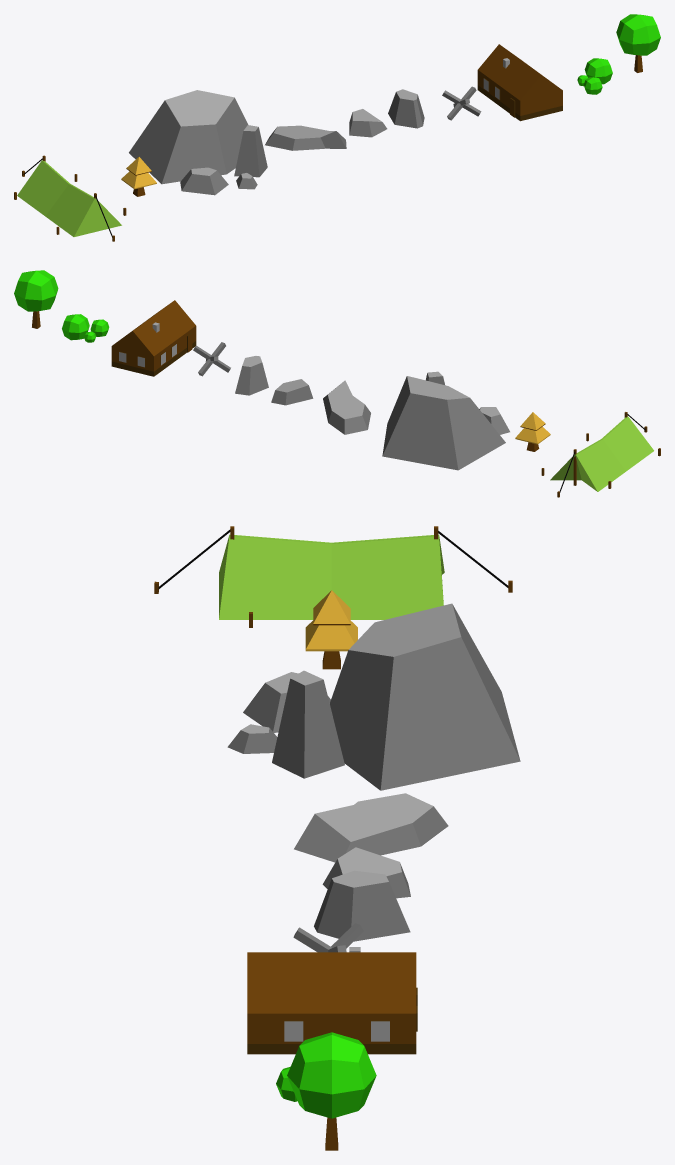
File: envirmoment.fbx
The picture shows the model from 3 angles, top to bottom: view 1: azimuth 30°, elevation 25°; view 2: azimuth 150°, elevation 25°; view 3: azimuth 270°, elevation 25°; orthographic projection. The views are drawn at different scales.
Visible parts, largest first — view 1: rock-4, tent, house, tree, rock-3, rock-1, bush, rock-2, spruce, obstacle; view 2: rock-4, house, tent, rock-3, tree, bush, rock-1, rock-2, spruce, obstacle; view 3: rock-4, tent, house, rock-3, tree, rock-1, spruce, rock-2, obstacle.
Part boxes in pixels (x1,y1,x2,y2): rock-4: (129, 90, 267, 195); tent: (14, 155, 126, 241); house: (477, 44, 562, 121); tree: (616, 14, 660, 72); rock-3: (265, 125, 346, 150); rock-1: (388, 89, 424, 128); bush: (577, 58, 612, 94); rock-2: (349, 109, 387, 137); spruce: (121, 157, 156, 196); obstacle: (442, 86, 481, 120); rock-4: (382, 371, 509, 470); house: (111, 300, 196, 376); tent: (541, 412, 660, 497); rock-3: (323, 380, 370, 434); tree: (14, 270, 58, 328); bush: (62, 314, 109, 342); rock-1: (235, 356, 268, 395); rock-2: (271, 379, 313, 405); spruce: (515, 412, 550, 451); obstacle: (193, 342, 230, 376); rock-4: (227, 603, 520, 790); tent: (154, 526, 512, 627); house: (247, 947, 417, 1054); rock-3: (294, 793, 448, 862); tree: (287, 1032, 376, 1150); rock-1: (314, 870, 410, 941); spruce: (305, 590, 357, 669); rock-2: (322, 847, 410, 898); obstacle: (293, 923, 363, 952).
Bounding box in the file's own units: 4257 × 399 × 1088.
